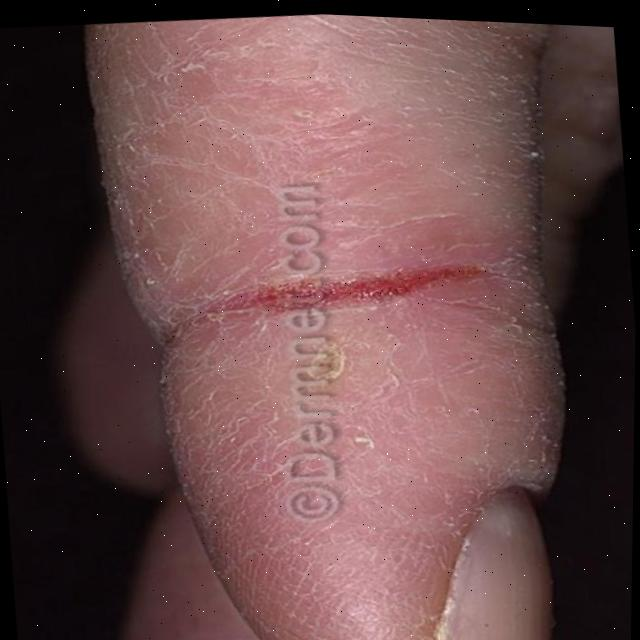Eczema: (201, 196, 499, 398)
